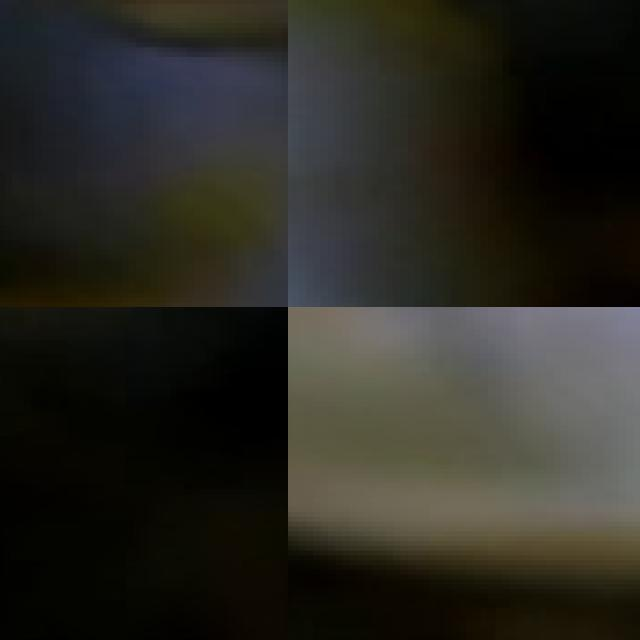fish: (288, 307, 640, 640), (0, 0, 288, 307)
